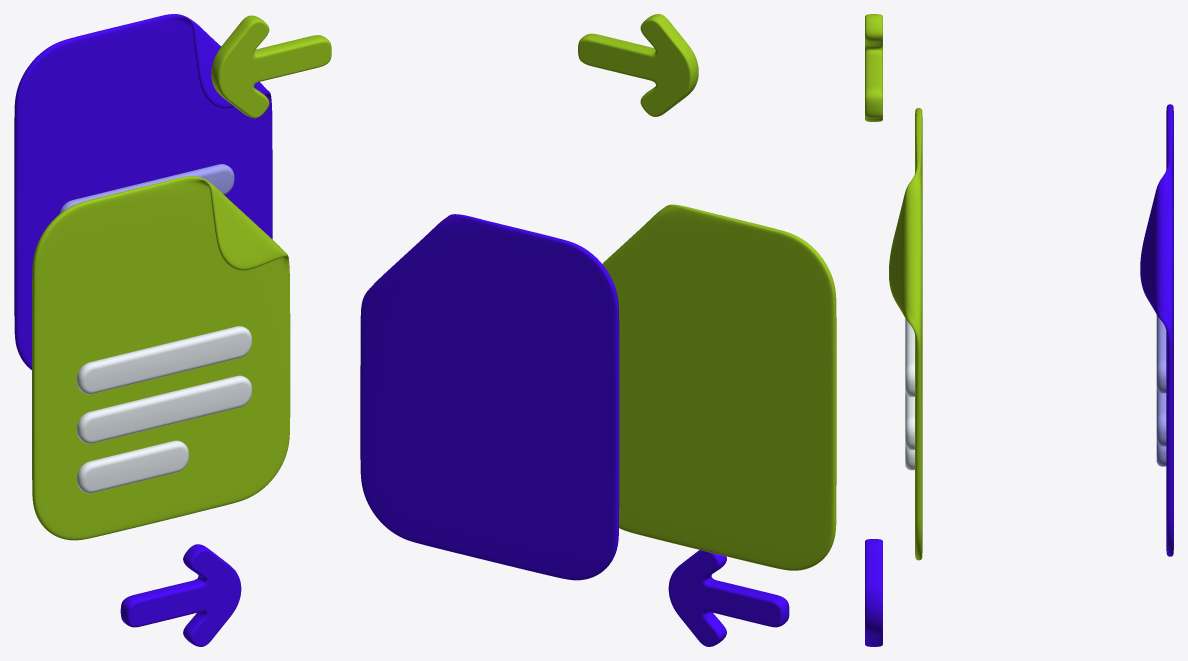
The model's file is converting-file-3d-animated-icon-445714517345.glb.
3 renders of one model, left to right at view 1: azimuth 30°, elevation 25°; view 2: azimuth 150°, elevation 25°; view 3: azimuth 270°, elevation 25°, orthographic. The views are drawn at different scales.
Parts seen in each view (by area): view 1: Retopo_Plane.002, Retopo_Plane.001, Arrow 2, Arrow 1; view 2: Retopo_Plane.001, Retopo_Plane.002, Arrow 2, Arrow 1; view 3: Retopo_Plane.002, Retopo_Plane.001, Arrow 1, Arrow 2.
Boxes of the visible parts, <box> form: Retopo_Plane.002: <box>32,176,290,540</box>; Retopo_Plane.001: <box>14,14,272,369</box>; Arrow 2: <box>211,15,331,118</box>; Arrow 1: <box>120,544,241,646</box>; Retopo_Plane.001: <box>360,214,619,580</box>; Retopo_Plane.002: <box>602,204,836,570</box>; Arrow 2: <box>578,14,698,116</box>; Arrow 1: <box>668,550,789,646</box>; Retopo_Plane.002: <box>889,108,922,560</box>; Retopo_Plane.001: <box>1140,104,1173,556</box>; Arrow 1: <box>865,539,882,646</box>; Arrow 2: <box>865,14,882,121</box>.
Size of the model in its own units: 1.19 by 1.95 by 0.8312.
